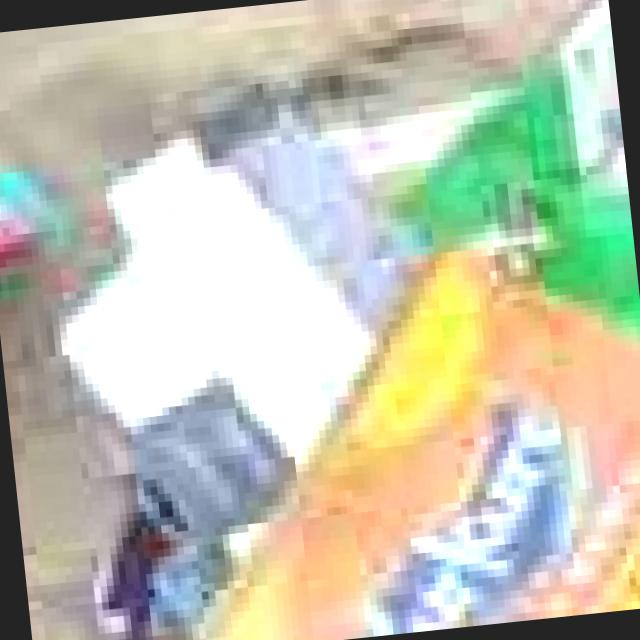giay_goi: (200, 251, 640, 640)
xop: (66, 145, 375, 459)
